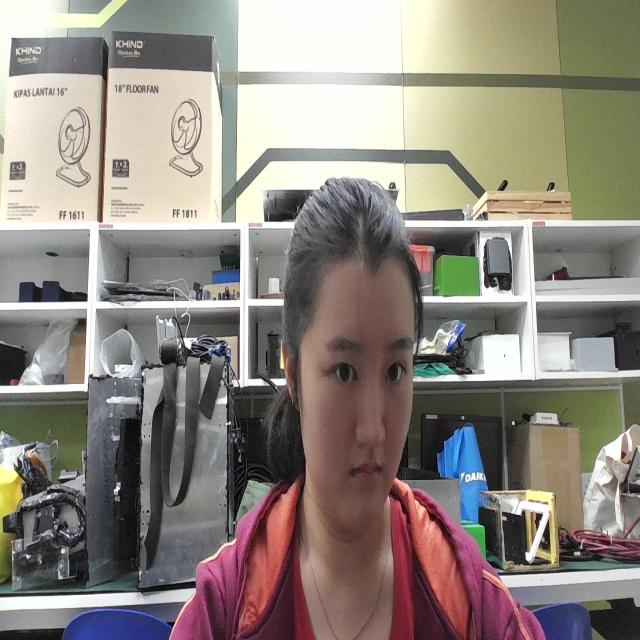Without Helmet: (261, 159, 468, 581)
